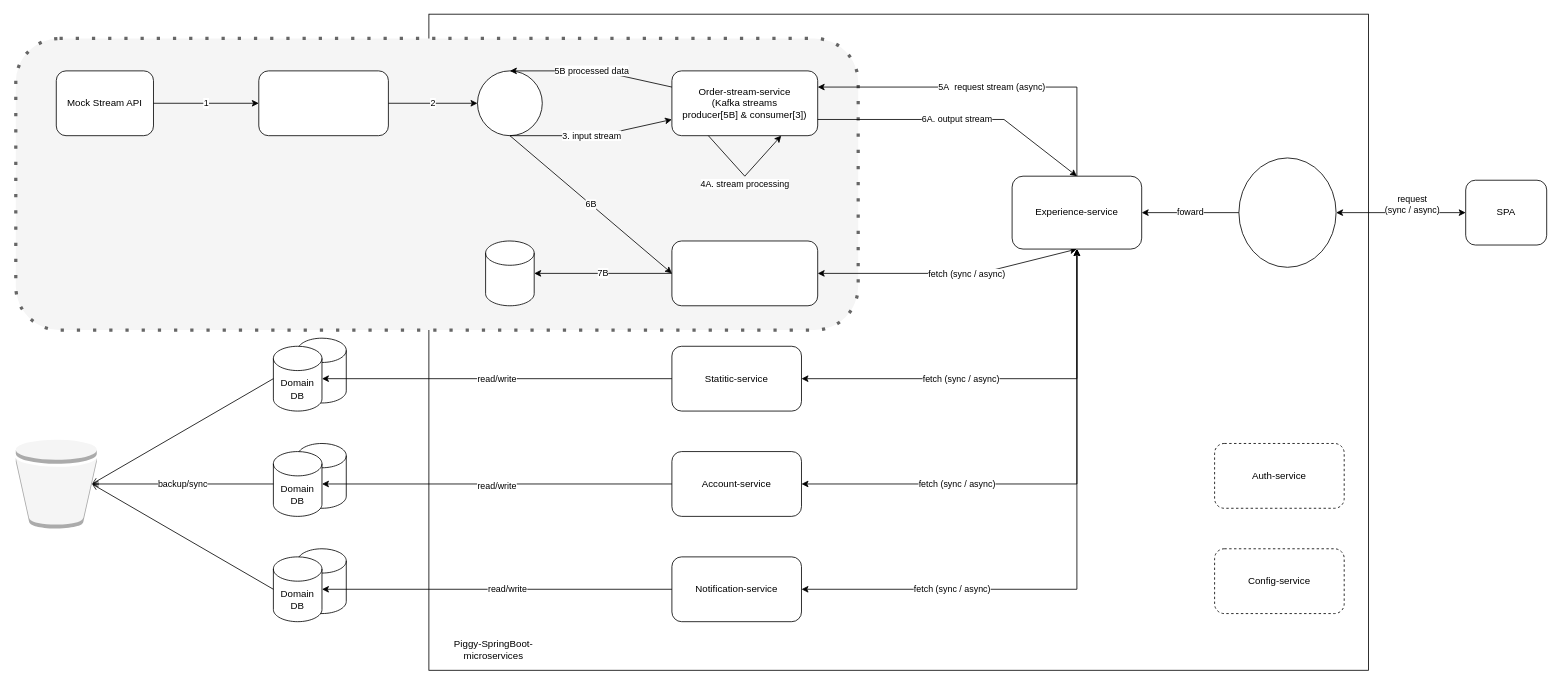
The diagram is 1561 pixels wide and 684 high, and some of its shapes have lost their labels. Each missing label, with the centre of its shape:
"API Gateway" goes at pixel 1287 212.
"Kafka broker" goes at pixel 509 103.
"Order-connector-service (Kafka producer)" goes at pixel 323 103.
"Order-service (Kafka consumer)" goes at pixel 744 273.
"S3 BUCKET" goes at pixel 56 484.
